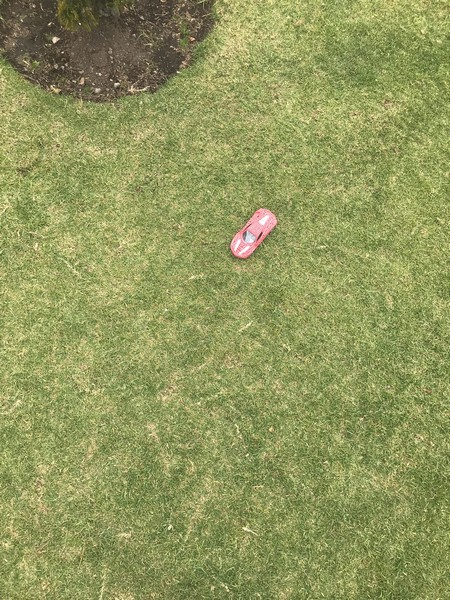RC: (228, 206, 279, 260)
